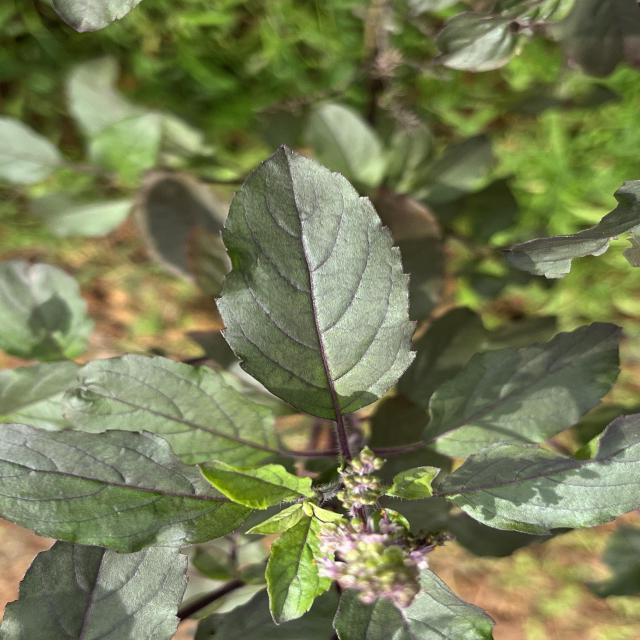Ocimum tenuiflorum: (206, 140, 422, 423)
